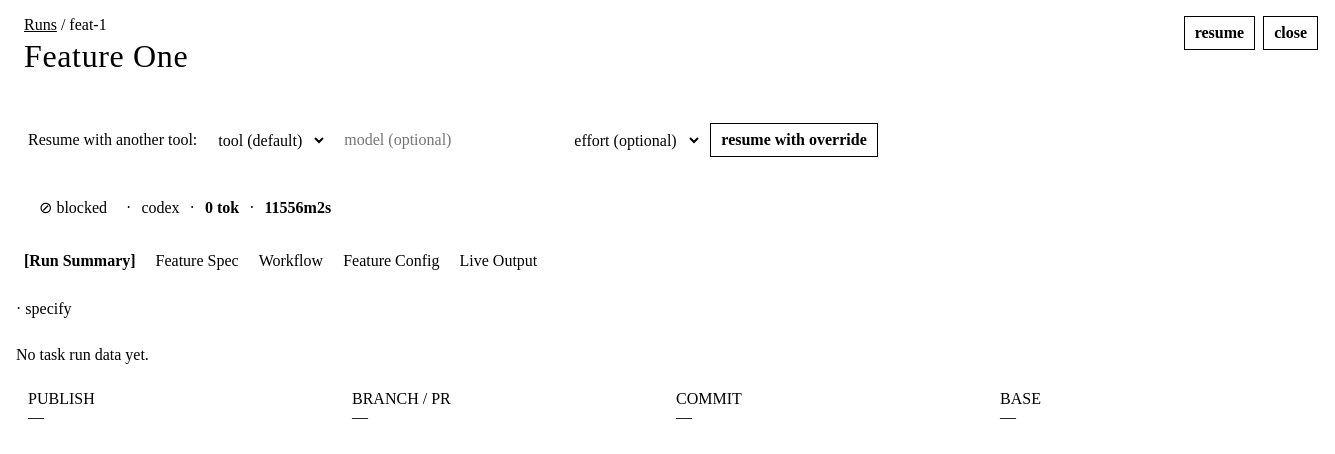
Test case: RunDetailPage spec tab › renders the Feature Spec as markdown on the run detail page
This screenshot has width=1335, height=454.
Click the button "Feature Spec": (197, 261) x1=148 y1=246 x2=247 y2=276
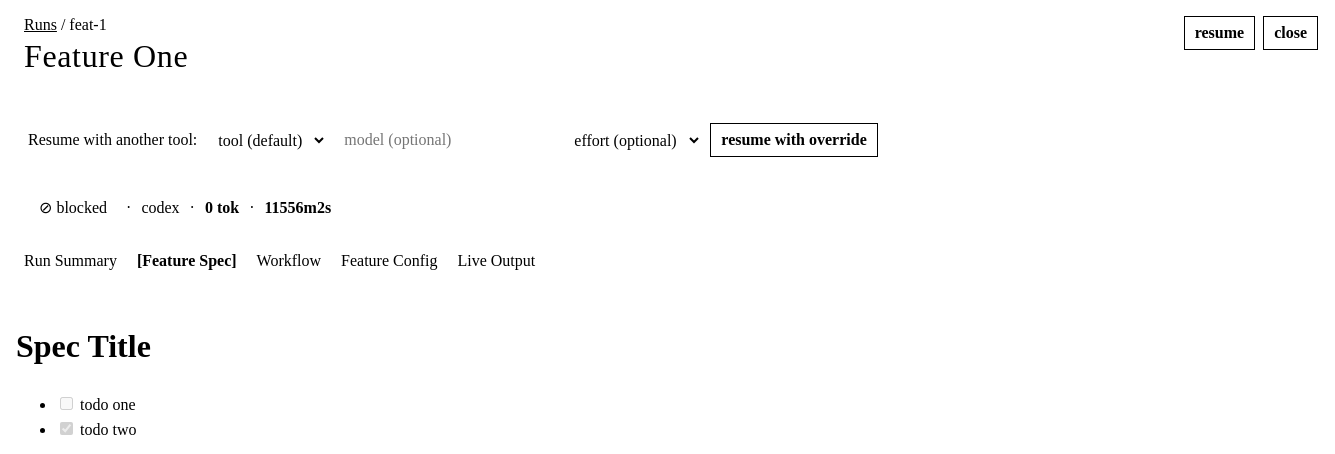
Now the heading "Spec Title" is shown, box x1=16 y1=328 x2=151 y2=364
Now the number of checkboxes is 2, box x1=60 y1=397 x2=73 y2=410; x1=60 y1=422 x2=73 y2=435
Now the checkbox next to "todo one" is not checked, box x1=60 y1=397 x2=73 y2=410
